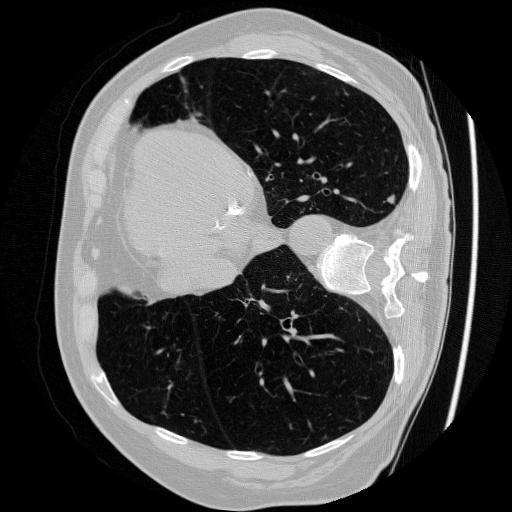nodule: (384, 193, 399, 208)
